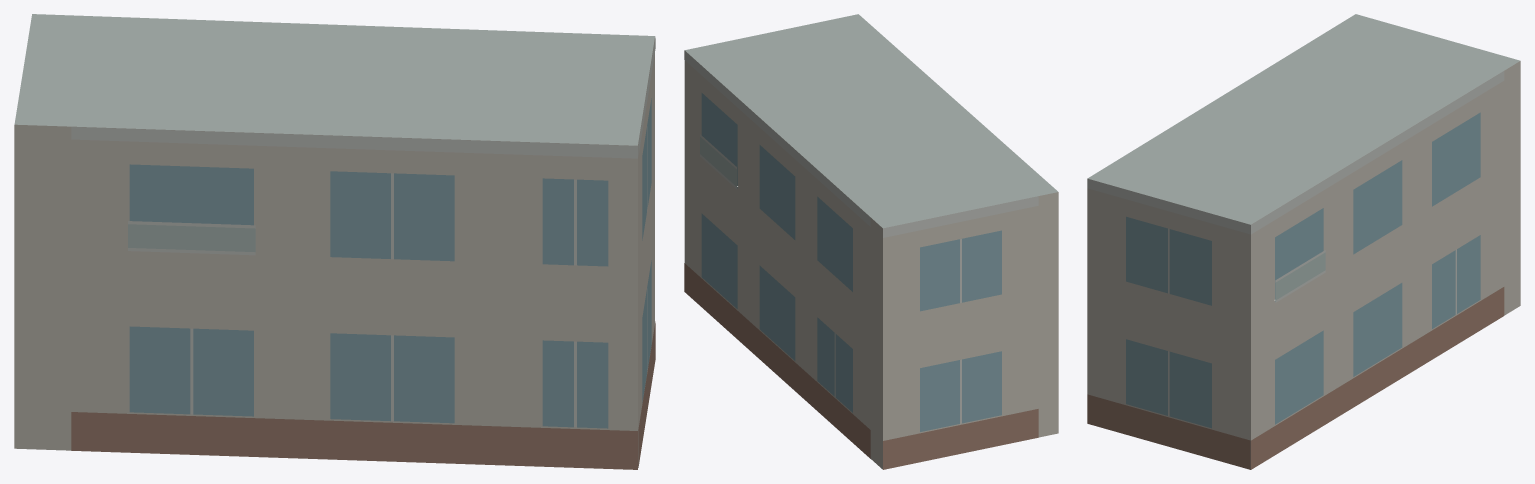
File: survey-upis-32570088.glb
The picture shows the model from 3 angles, left to right: view 1: azimuth 30°, elevation 25°; view 2: azimuth 150°, elevation 25°; view 3: azimuth 270°, elevation 25°; orthographic projection. The views are drawn at different scales.
Parts seen in each view (by area): view 1: survey-upis-32570088.tmp; view 2: survey-upis-32570088.tmp; view 3: survey-upis-32570088.tmp.
Boxes of the visible parts, x1=… form: survey-upis-32570088.tmp: x1=14, y1=14, x2=655, y2=469; survey-upis-32570088.tmp: x1=684, y1=14, x2=1058, y2=469; survey-upis-32570088.tmp: x1=1087, y1=14, x2=1520, y2=469.
Bounding box in the file's own units: 11.26 × 6.1 × 9.78.
